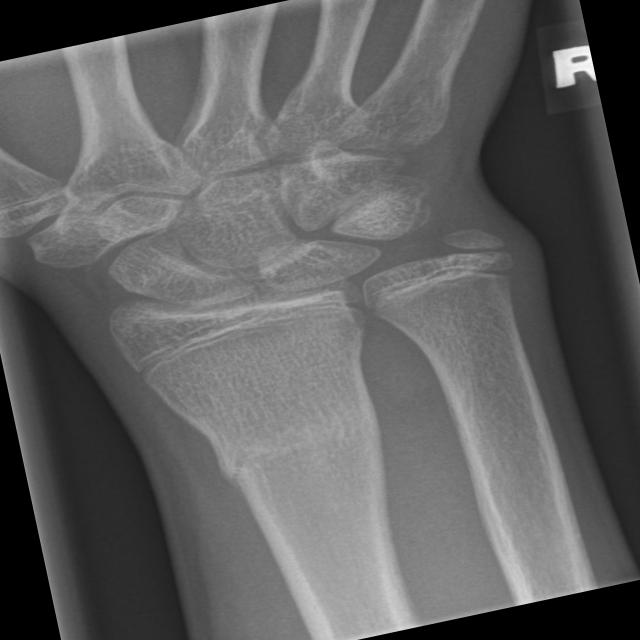fracture: (108, 271, 384, 395), (189, 393, 423, 506), (346, 227, 536, 328)
